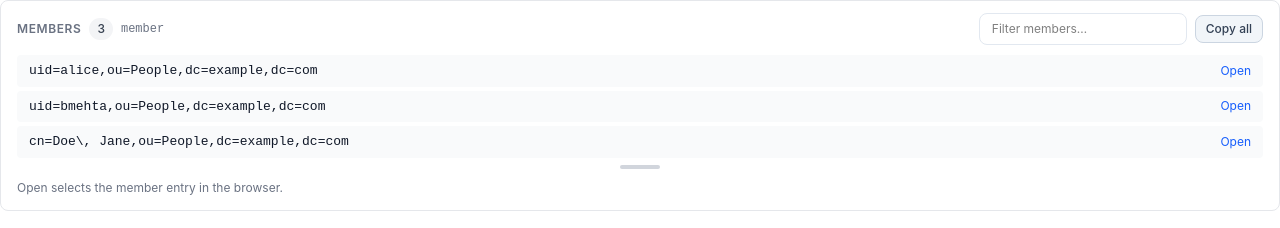
Test: GroupMembersPanel › filters members case-insensitively and reports an empty match
In the search field with placeholder "Filter members…": {"x": 1083, "y": 29} [979,13,1187,45], type "BMEHTA"
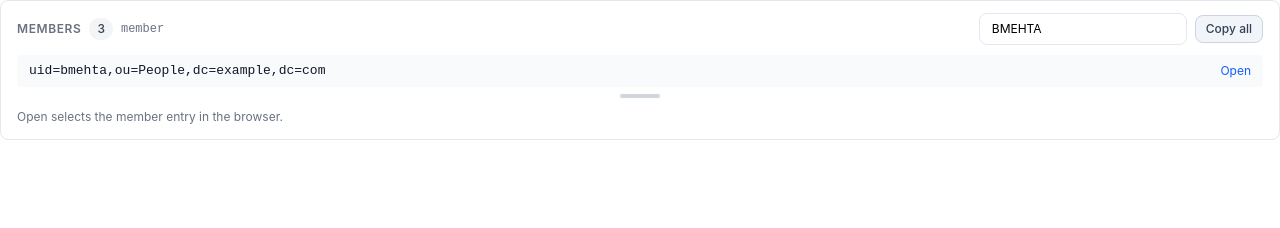
Expected: the list item "uid=bmehta,ou=People,dc=example,dc=com Open" is shown, [17,55,1263,86]
Result: the number of list items is 1 at [17,55,1263,86]
Replace the text in the search field with "nobody": {"x": 1083, "y": 29} [979,13,1187,45]
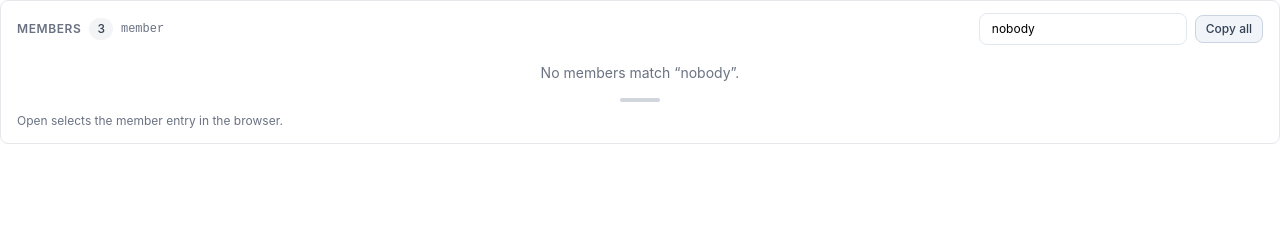
Result: the number of list items is 1 at [541,64,739,81]
Result: the list item "No members match “nobody”." is shown at [541,64,739,81]
